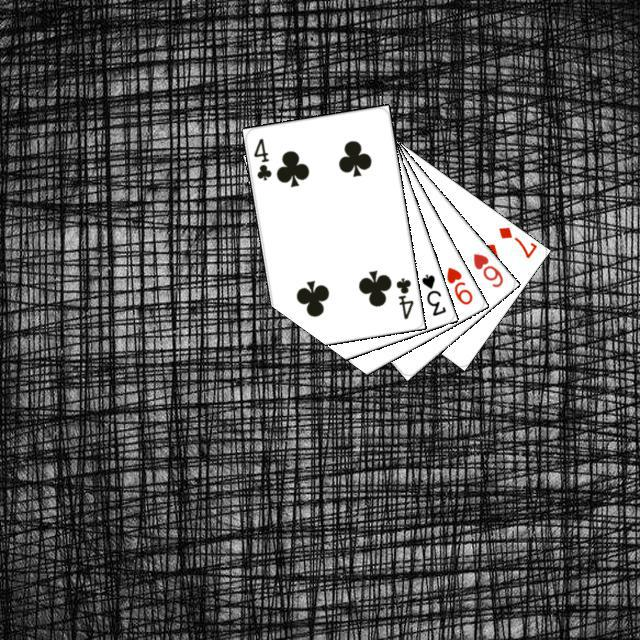3s: (416, 269, 448, 318)
4c: (249, 133, 273, 182), (391, 273, 415, 321)
6h: (468, 248, 505, 289)
7d: (493, 222, 538, 260)
9h: (441, 262, 474, 307)
